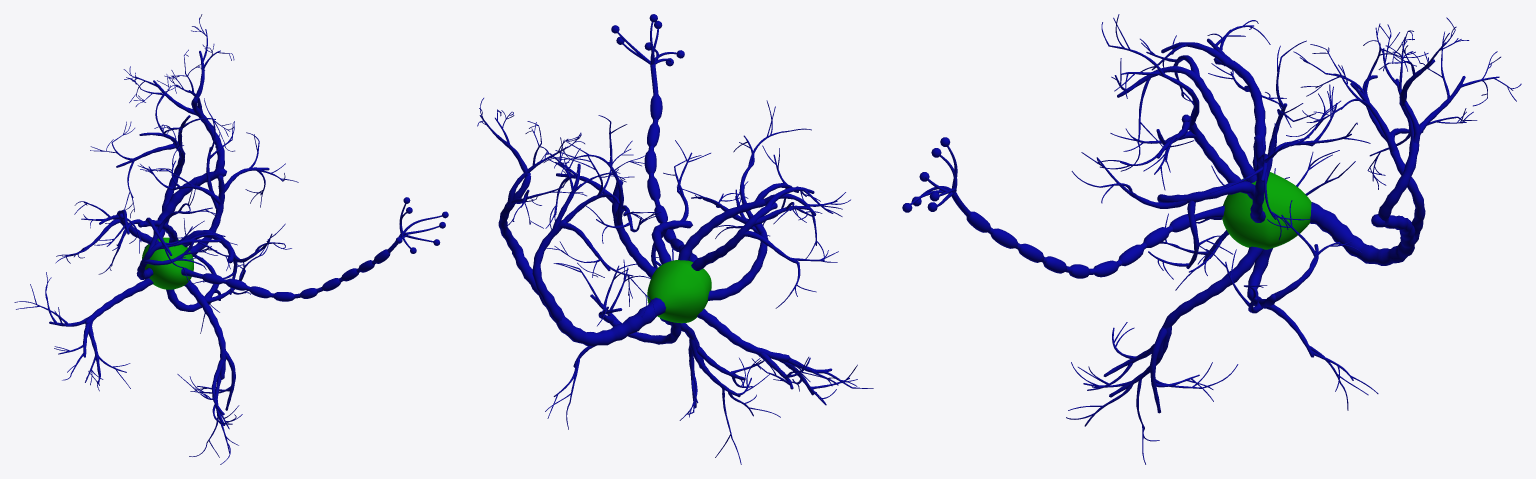
File: neuron.glb
3 renders of one model, left to right at view 1: azimuth 30°, elevation 25°; view 2: azimuth 150°, elevation 25°; view 3: azimuth 270°, elevation 25°, orthographic. The views are drawn at different scales.
Visible parts, largest first — view 1: Neuron; view 2: Neuron; view 3: Neuron.
Part boxes in pixels (bbox=[...]): Neuron: bbox=[14, 14, 448, 464]; Neuron: bbox=[477, 14, 873, 464]; Neuron: bbox=[902, 14, 1521, 464].
Size of the model in its own units: 4.22 by 4.63 by 5.11.
